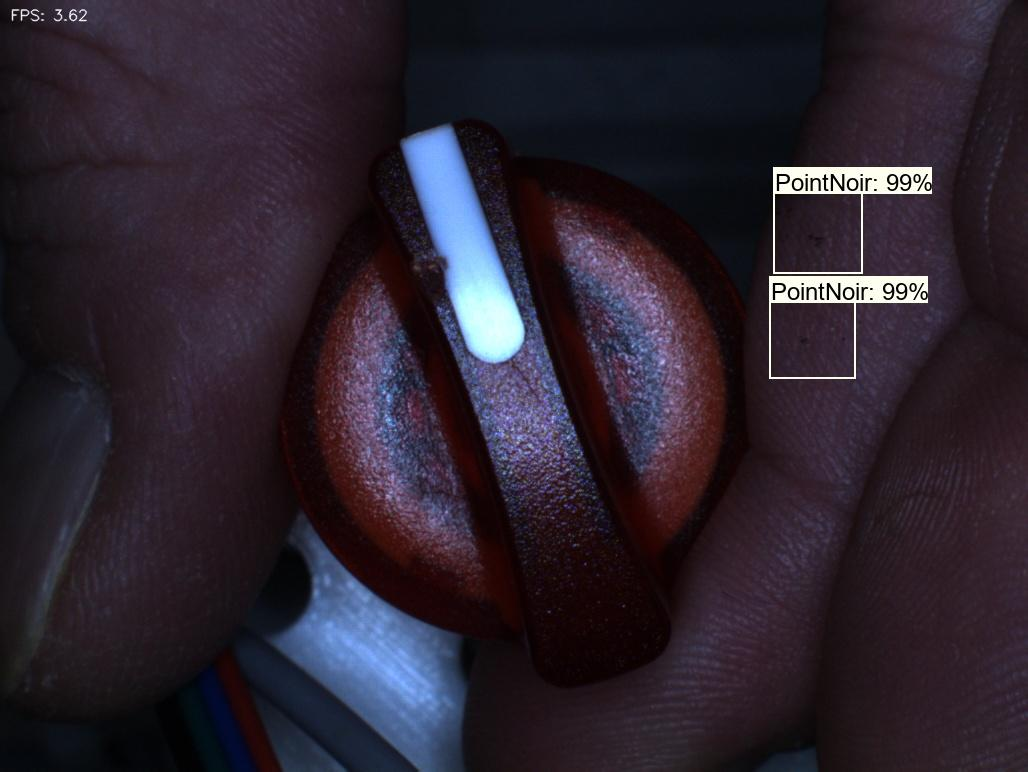Choc: (378, 241, 479, 338)
